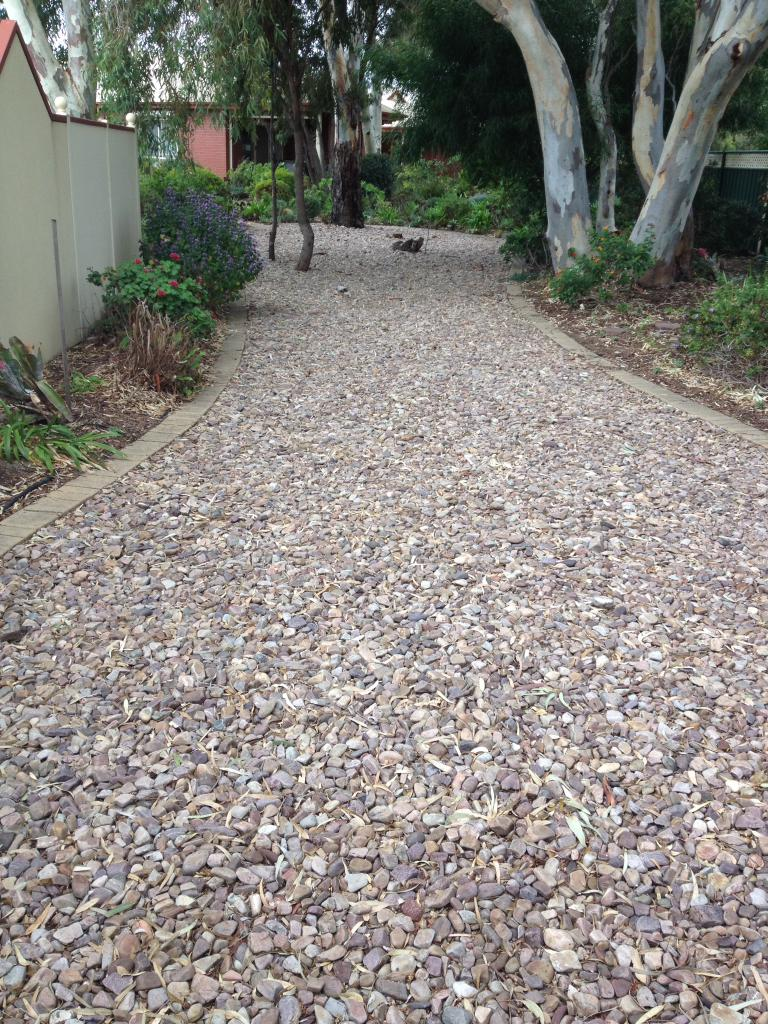Tree: (0, 0, 768, 288)
